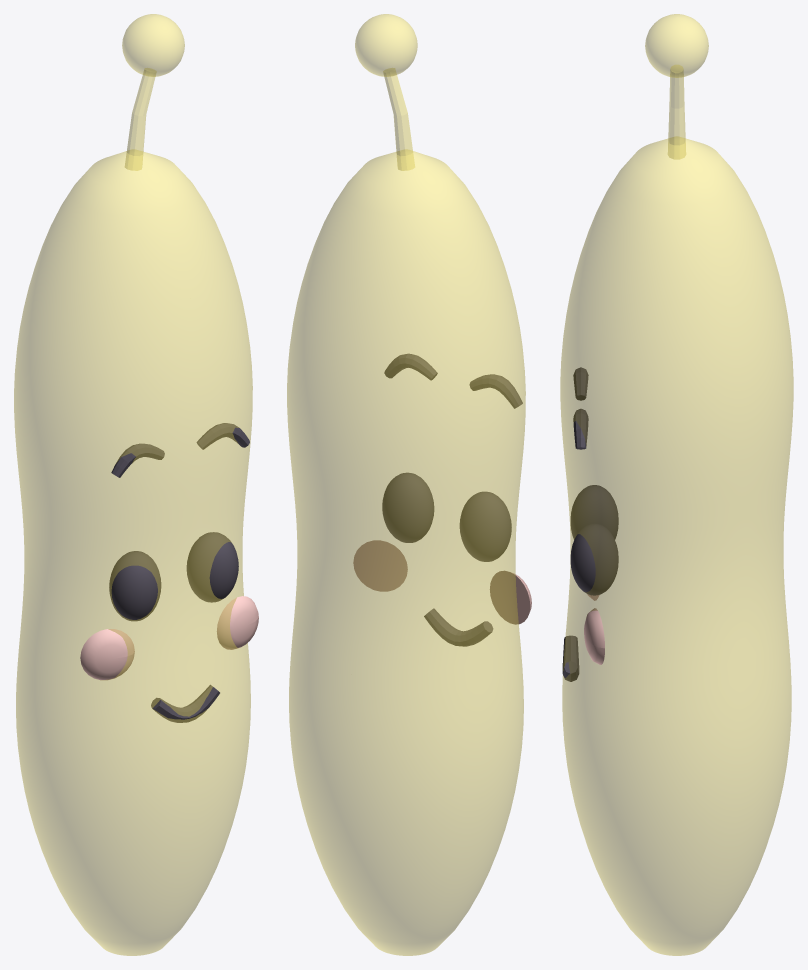
Rendered from jelly-friends-playroom-jelly-yuzu-stretched-4464e6ca__27605.glb.
The picture shows the model from 3 angles, left to right: view 1: azimuth 30°, elevation 25°; view 2: azimuth 150°, elevation 25°; view 3: azimuth 270°, elevation 25°; orthographic projection.
Visible parts, largest first — view 1: body, antenna, eye-right, eye-left, blush-left, blush-right, mouth, brow-left, brow-right; view 2: body, antenna, eye-left, eye-right, blush-right, blush-left, mouth, brow-left, brow-right; view 3: body, antenna, eye-right, eye-left, blush-right, mouth, brow-right.
Boxes of the visible parts, <box> form: body: <box>14,149,252,955</box>; antenna: <box>122,14,184,170</box>; eye-right: <box>186,532,238,602</box>; eye-left: <box>109,551,161,621</box>; blush-left: <box>80,629,134,680</box>; blush-right: <box>217,596,258,649</box>; mouth: <box>151,685,219,722</box>; brow-left: <box>111,443,164,477</box>; brow-right: <box>196,423,249,449</box>; body: <box>287,149,525,955</box>; antenna: <box>355,14,417,170</box>; eye-left: <box>459,491,511,561</box>; eye-right: <box>382,472,434,542</box>; blush-right: <box>353,540,407,591</box>; blush-left: <box>490,570,531,624</box>; mouth: <box>424,608,493,646</box>; brow-left: <box>469,374,522,408</box>; brow-right: <box>384,353,437,380</box>; body: <box>560,136,793,955</box>; antenna: <box>645,14,708,159</box>; eye-right: <box>570,523,618,595</box>; eye-left: <box>570,485,618,539</box>; blush-right: <box>584,608,604,664</box>; mouth: <box>562,635,579,681</box>; brow-right: <box>573,409,588,449</box>.
Size of the model in its own units: 0.1459 by 0.613 by 0.1387.
